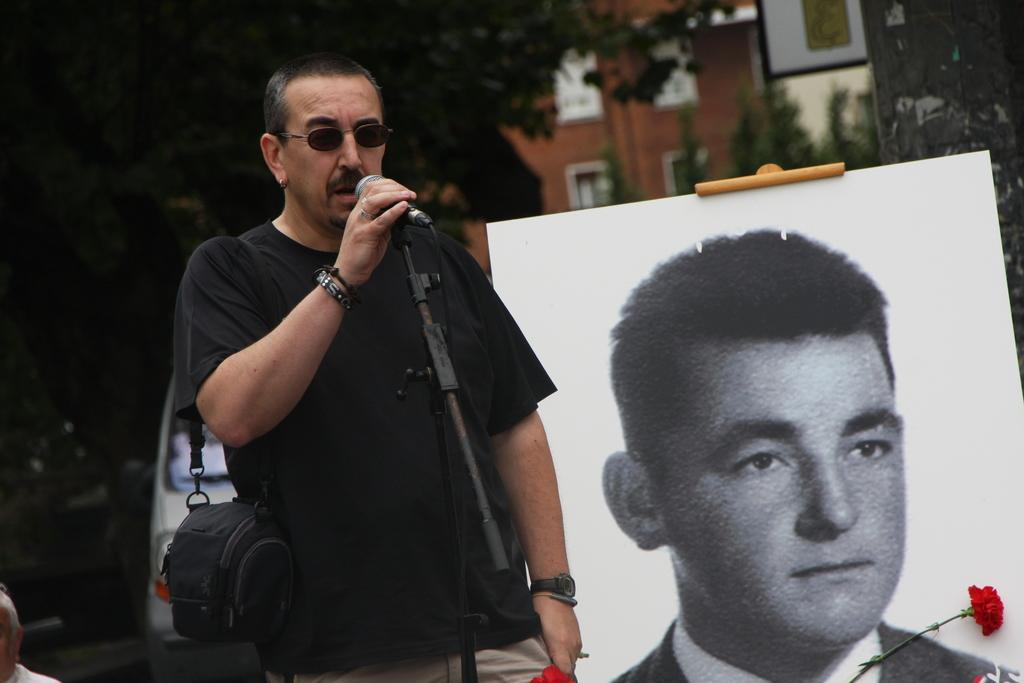Luggage-and-bags: (152, 481, 307, 657)
